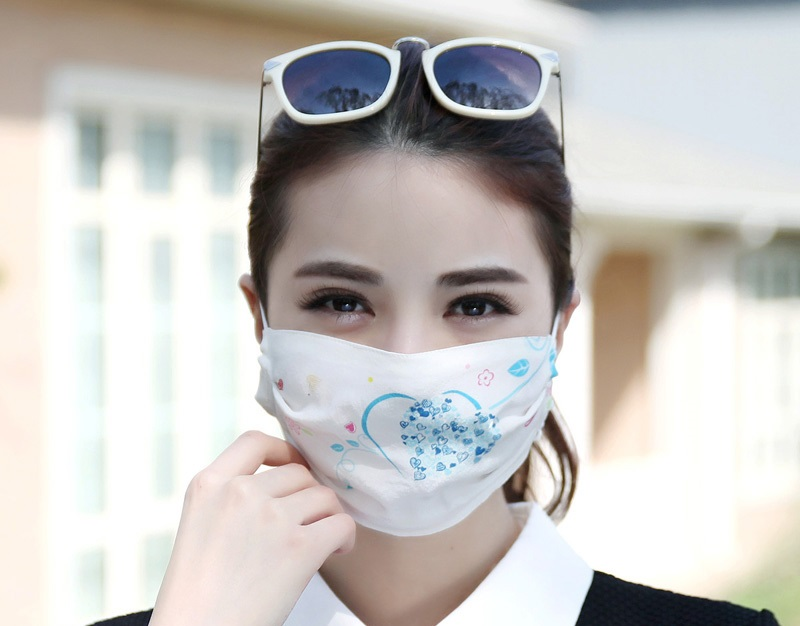face_mask: (258, 164, 553, 507)
